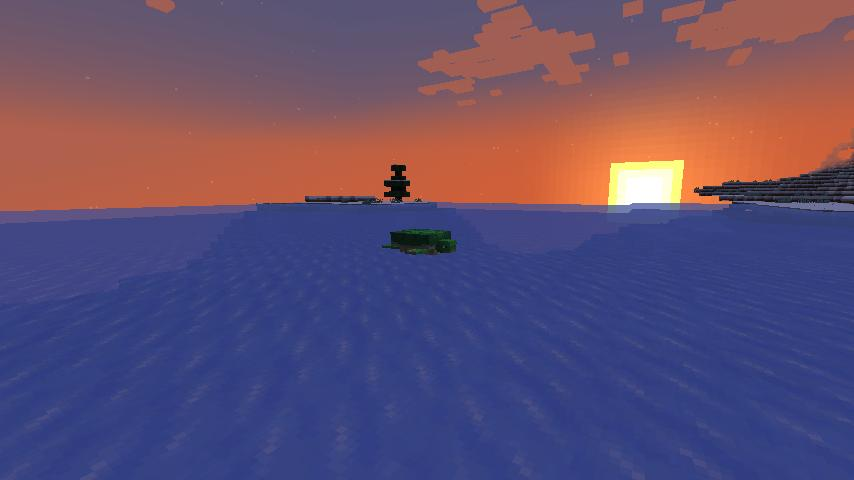turtle: (381, 227, 458, 258)
